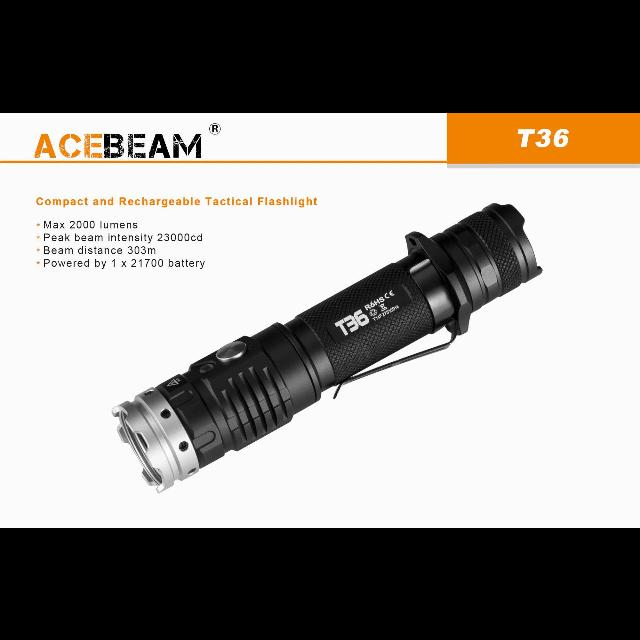Flashlight: (105, 197, 548, 499)
